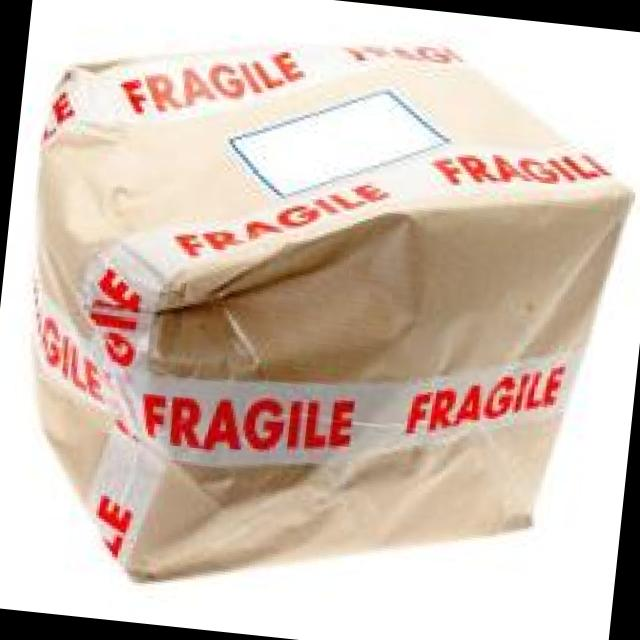box: (195, 8, 478, 334), (71, 243, 317, 581), (263, 283, 511, 614)
